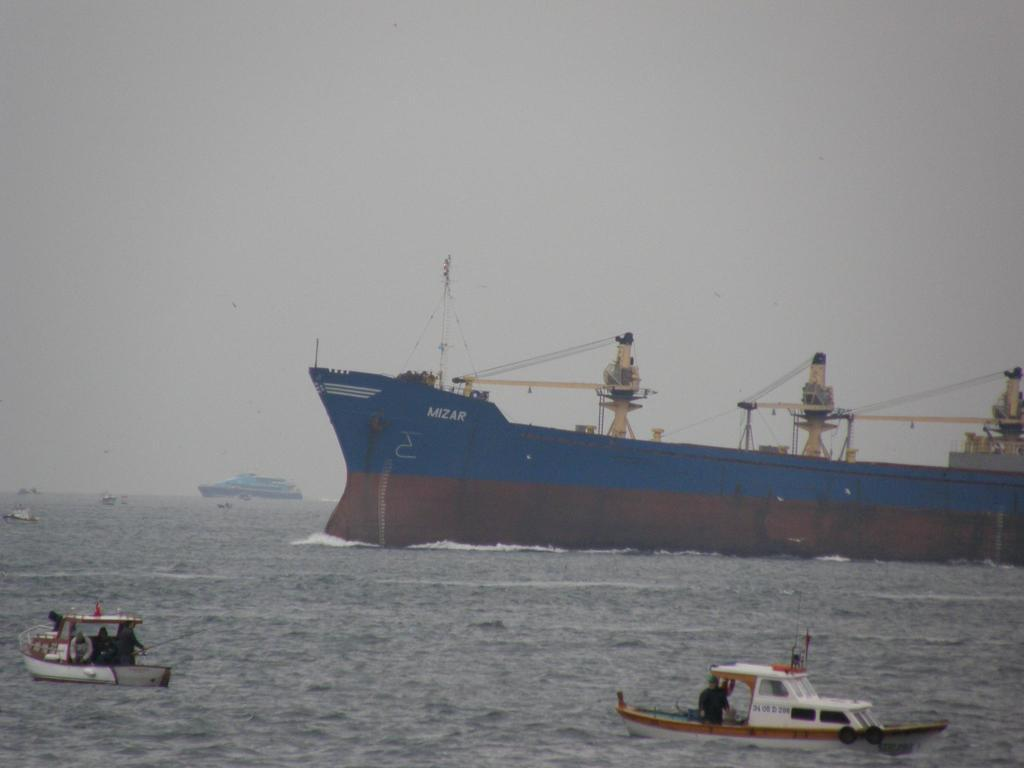PassengerShip: (190, 465, 310, 505)
